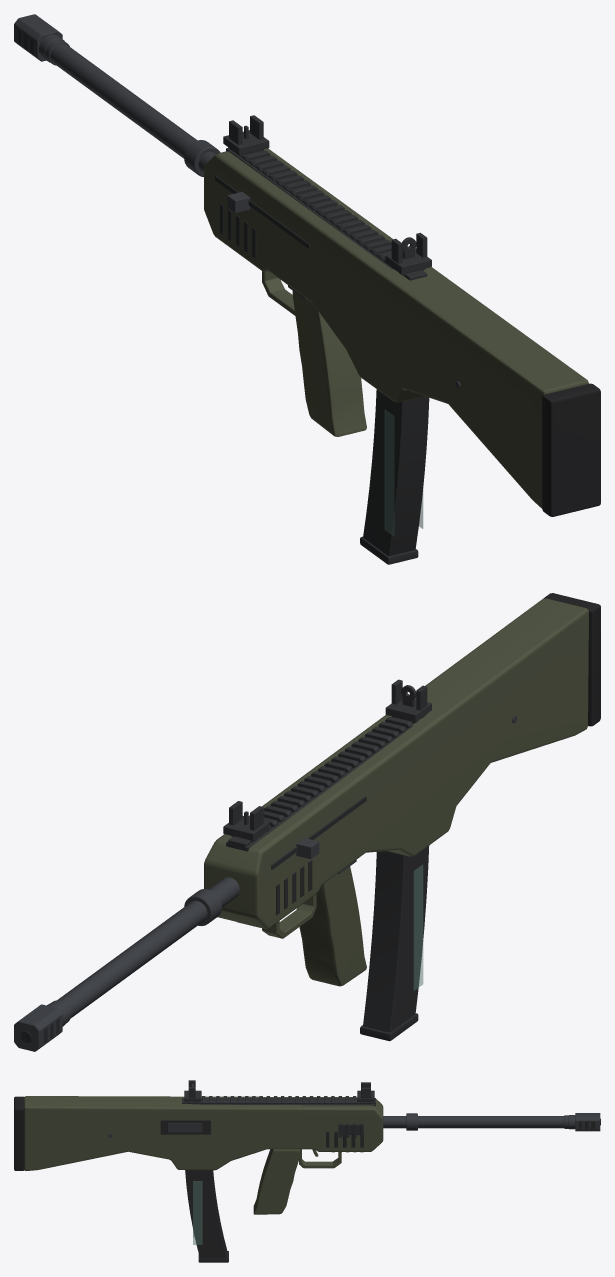
The model's file is wpn_tern_556.glb.
The picture shows the model from 3 angles, top to bottom: view 1: azimuth 30°, elevation 25°; view 2: azimuth 150°, elevation 25°; view 3: azimuth 270°, elevation 25°; orthographic projection. The views are drawn at different scales.
Parts seen in each view (by area): view 1: Shell, Magazine, ButtPad, Grip, Barrel, ShellRail, IronSights, ShellDetails, MagazineWindow, MuzzleBrake, TriggerGroup; view 2: Shell, Magazine, Grip, Barrel, ShellRail, IronSights, ButtPad, MuzzleBrake, ShellDetails, MagazineWindow, TriggerGroup, GasBlock; view 3: Shell, Magazine, Barrel, Grip, ShellRail, ShellDetails, ButtPad, MagazineWindow, IronSights, MuzzleBrake, TriggerGroup.
Part boxes in pixels (x1=…): Shell: x1=204, y1=148, x2=588, y2=508; Magazine: x1=360, y1=389, x2=429, y2=564; ButtPad: x1=542, y1=383, x2=600, y2=516; Grip: x1=292, y1=291, x2=366, y2=436; Barrel: x1=45, y1=39, x2=216, y2=172; ShellRail: x1=226, y1=147, x2=427, y2=280; IronSights: x1=223, y1=115, x2=431, y2=273; ShellDetails: x1=215, y1=175, x2=460, y2=388; MagazineWindow: x1=384, y1=410, x2=423, y2=535; MuzzleBrake: x1=14, y1=14, x2=64, y2=62; TriggerGroup: x1=262, y1=271, x2=295, y2=315; Shell: x1=204, y1=598, x2=588, y2=928; Magazine: x1=360, y1=845, x2=429, y2=1041; Grip: x1=299, y1=866, x2=366, y2=986; Barrel: x1=51, y1=877, x2=239, y2=1023; ShellRail: x1=226, y1=714, x2=426, y2=927; IronSights: x1=223, y1=679, x2=431, y2=840; ButtPad: x1=543, y1=593, x2=600, y2=726; MuzzleBrake: x1=14, y1=1003, x2=67, y2=1051; ShellDetails: x1=271, y1=715, x2=516, y2=915; MagazineWindow: x1=413, y1=864, x2=423, y2=990; TriggerGroup: x1=262, y1=894, x2=316, y2=938; GasBlock: x1=184, y1=888, x2=221, y2=926; Shell: x1=24, y1=1096, x2=383, y2=1170; Magazine: x1=185, y1=1170, x2=228, y2=1262; Barrel: x1=383, y1=1115, x2=568, y2=1128; Grip: x1=253, y1=1149, x2=300, y2=1214; ShellRail: x1=182, y1=1096, x2=375, y2=1152; ShellDetails: x1=108, y1=1120, x2=363, y2=1147; ButtPad: x1=14, y1=1096, x2=24, y2=1170; MagazineWindow: x1=193, y1=1181, x2=202, y2=1244; IronSights: x1=184, y1=1080, x2=374, y2=1102; MuzzleBrake: x1=568, y1=1113, x2=600, y2=1131; TriggerGroup: x1=299, y1=1149, x2=341, y2=1168.
Size of the model in its own units: 0.0657 by 0.2682 by 0.8169.
